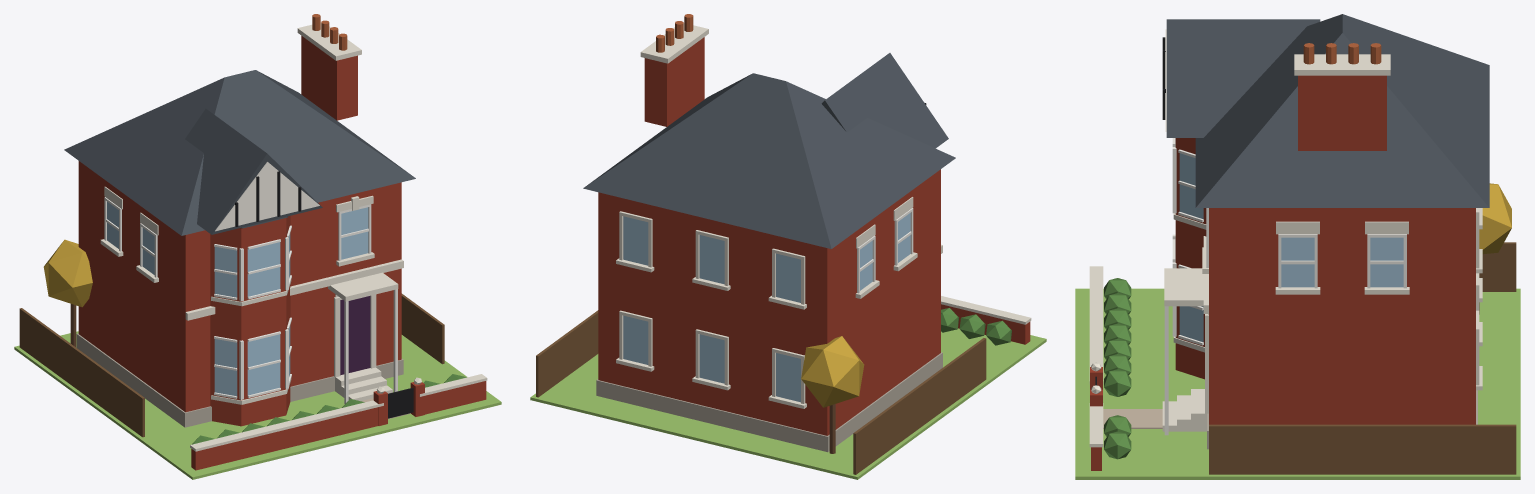
File: MustakilEv_londra_edwardian_3_Hafif.fbx
3 views of the same model, side by side, from view 1: azimuth 30°, elevation 25°; view 2: azimuth 150°, elevation 25°; view 3: azimuth 270°, elevation 25° (orthographic). The views are drawn at different scales.
Visible parts, largest first — view 1: MustakilEv_londra_edwardian_3_Hafif; view 2: MustakilEv_londra_edwardian_3_Hafif; view 3: MustakilEv_londra_edwardian_3_Hafif.
Part boxes in pixels (x1=…): MustakilEv_londra_edwardian_3_Hafif: x1=14, y1=14, x2=501, y2=479; MustakilEv_londra_edwardian_3_Hafif: x1=530, y1=14, x2=1046, y2=479; MustakilEv_londra_edwardian_3_Hafif: x1=1075, y1=14, x2=1520, y2=479.
Size of the model in its own units: 10 by 9.79 by 10.
